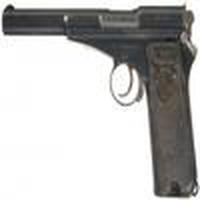gun: (1, 2, 200, 196)
